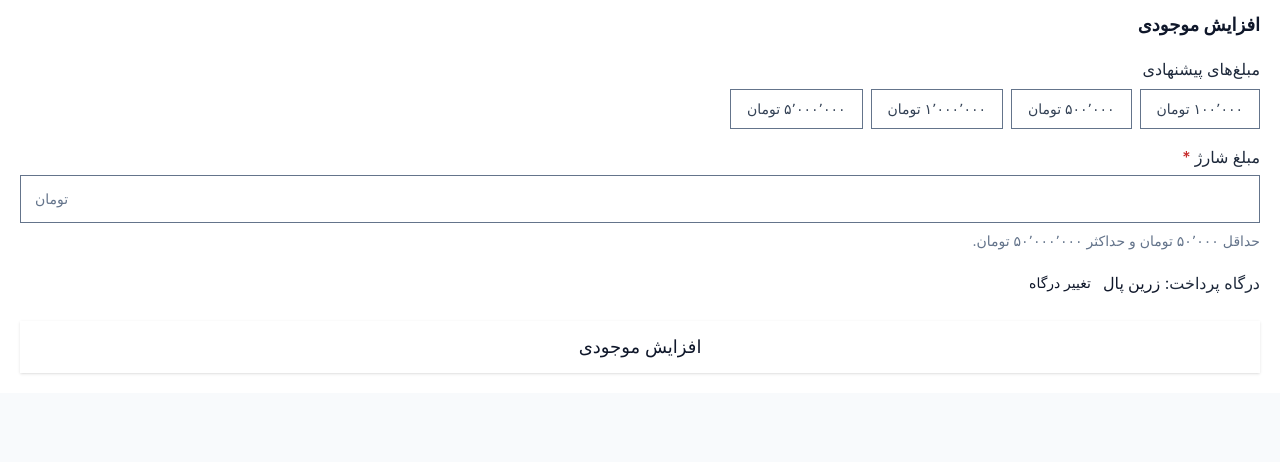
the box closes › a frozen wallet (403): the freeze message, said
Type "100000" into the field labelled "مبلغ شارژ *" at (664, 199), box [68,176,1259,222]
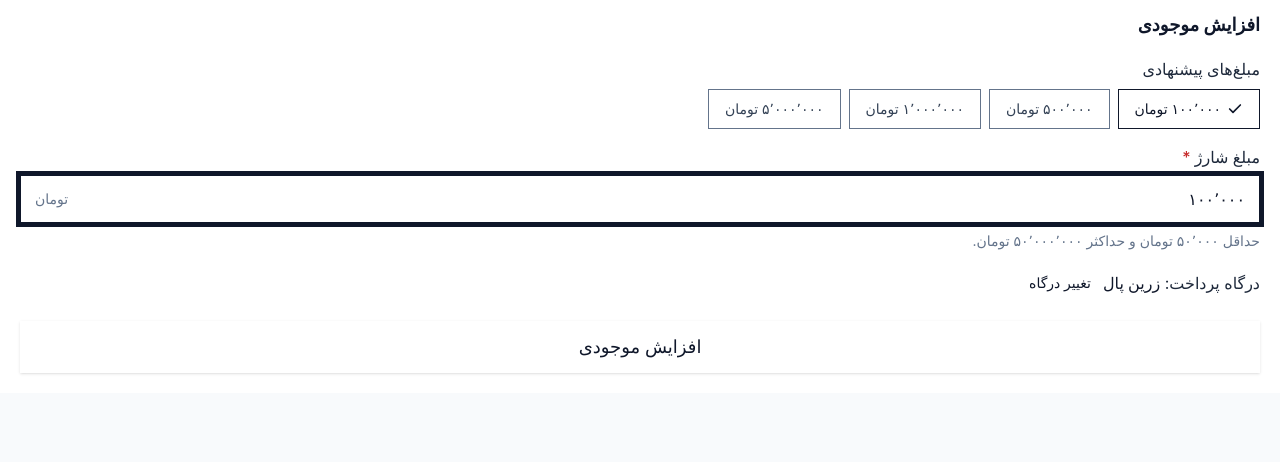
Click the button "افزایش موجودی" at (640, 347), box [20,321,1260,373]
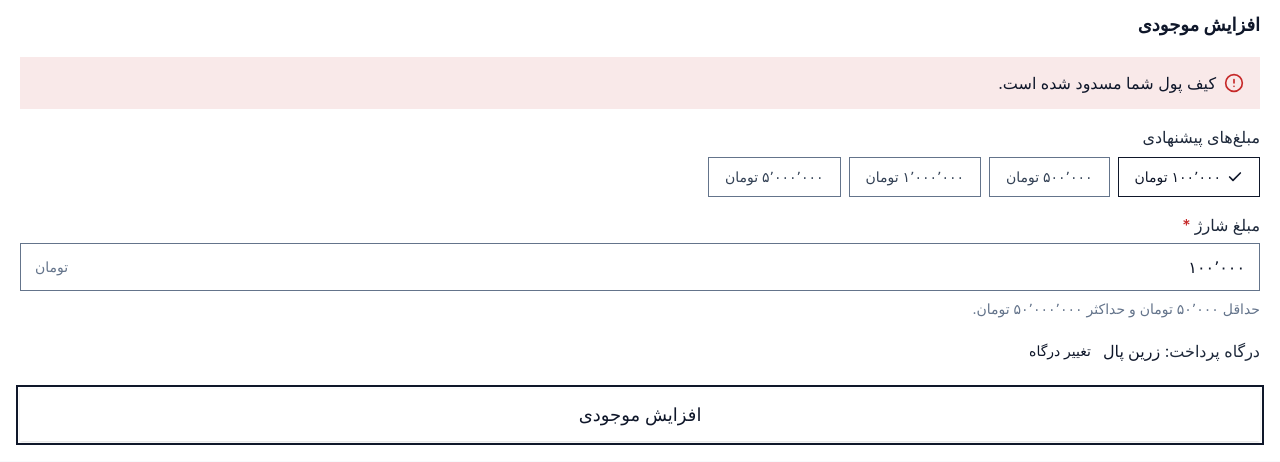
Check: the message reads "کیف پول شما مسدود شده است.", box [998,73,1216,93]
